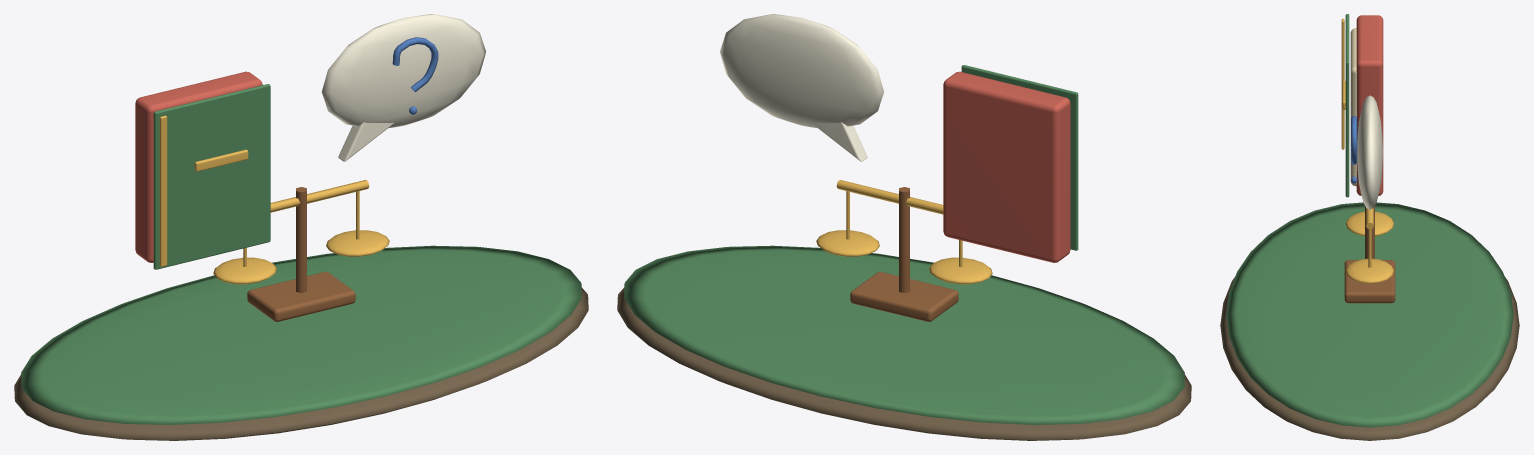
The model's file is complete-second-exam-worry-consider.glb.
3 views of the same model, side by side, from view 1: azimuth 30°, elevation 25°; view 2: azimuth 150°, elevation 25°; view 3: azimuth 270°, elevation 25° (orthographic). The views are drawn at different scales.
Visible parts, largest first — view 1: complete-second-exam-worry-consider_surface_01, complete-second-exam-worry-consider_surface_05, complete-second-exam-worry-consider_surface_00, complete-second-exam-worry-consider_surface_04, complete-second-exam-worry-consider_surface_02, complete-second-exam-worry-consider_surface_07, complete-second-exam-worry-consider_surface_06; view 2: complete-second-exam-worry-consider_surface_01, complete-second-exam-worry-consider_surface_02, complete-second-exam-worry-consider_surface_05, complete-second-exam-worry-consider_surface_00, complete-second-exam-worry-consider_surface_07, complete-second-exam-worry-consider_surface_04; view 3: complete-second-exam-worry-consider_surface_01, complete-second-exam-worry-consider_surface_00, complete-second-exam-worry-consider_surface_02, complete-second-exam-worry-consider_surface_04, complete-second-exam-worry-consider_surface_05, complete-second-exam-worry-consider_surface_07, complete-second-exam-worry-consider_surface_03, complete-second-exam-worry-consider_surface_06.
Part boxes in pixels (x1,y1,x2,y2): complete-second-exam-worry-consider_surface_01: (21, 84, 581, 424); complete-second-exam-worry-consider_surface_05: (322, 14, 485, 161); complete-second-exam-worry-consider_surface_00: (14, 287, 588, 440); complete-second-exam-worry-consider_surface_04: (159, 115, 389, 284); complete-second-exam-worry-consider_surface_02: (135, 71, 262, 262); complete-second-exam-worry-consider_surface_07: (247, 187, 355, 321); complete-second-exam-worry-consider_surface_06: (392, 37, 438, 114); complete-second-exam-worry-consider_surface_01: (624, 65, 1184, 424); complete-second-exam-worry-consider_surface_02: (943, 71, 1070, 262); complete-second-exam-worry-consider_surface_05: (720, 14, 883, 161); complete-second-exam-worry-consider_surface_00: (617, 287, 1191, 440); complete-second-exam-worry-consider_surface_07: (850, 187, 958, 321); complete-second-exam-worry-consider_surface_04: (816, 180, 992, 284); complete-second-exam-worry-consider_surface_01: (1226, 14, 1513, 427); complete-second-exam-worry-consider_surface_00: (1220, 276, 1519, 440); complete-second-exam-worry-consider_surface_02: (1356, 15, 1383, 195); complete-second-exam-worry-consider_surface_04: (1341, 18, 1394, 283); complete-second-exam-worry-consider_surface_05: (1357, 95, 1382, 209); complete-second-exam-worry-consider_surface_07: (1344, 206, 1395, 303); complete-second-exam-worry-consider_surface_03: (1350, 28, 1356, 186); complete-second-exam-worry-consider_surface_06: (1351, 116, 1357, 183).
Bounding box in the file's own units: 4.56 × 2.55 × 2.5.
